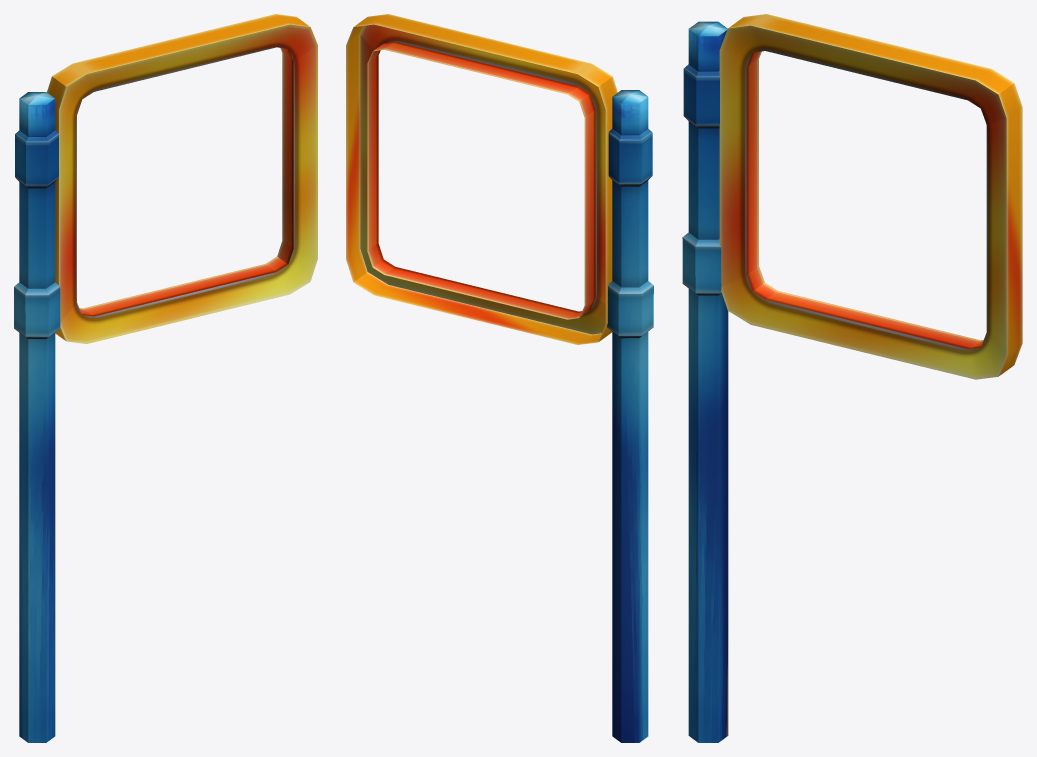
Rendered from player_sign.fbx.
3 renders of one model, left to right at view 1: azimuth 30°, elevation 25°; view 2: azimuth 150°, elevation 25°; view 3: azimuth 330°, elevation 25°, orthographic. The views are drawn at different scales.
Visible parts, largest first — view 1: player_sign; view 2: player_sign; view 3: player_sign.
Boxes of the visible parts, x1,y1,x2,y2 form: player_sign: [14, 14, 317, 742]; player_sign: [346, 14, 653, 742]; player_sign: [682, 14, 1022, 742].
Bounding box in the file's own units: 288 × 617 × 39.57.
